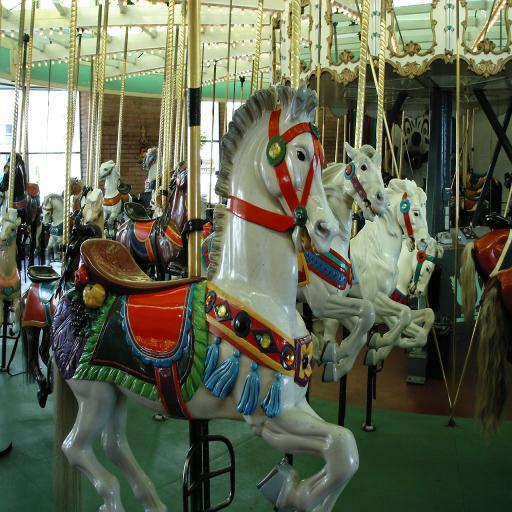Horse: (50, 82, 361, 512), (297, 177, 431, 370), (297, 140, 392, 384), (15, 216, 106, 412), (311, 233, 446, 349), (116, 154, 203, 280), (474, 267, 512, 443), (0, 150, 50, 273), (460, 227, 511, 336), (0, 211, 22, 339), (99, 160, 134, 239), (40, 193, 66, 261), (61, 177, 87, 233), (142, 146, 164, 194)
